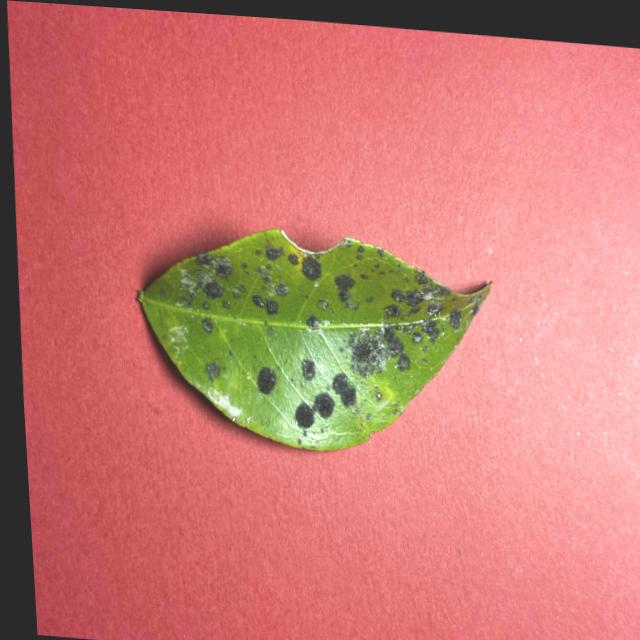sooty_mold: (166, 230, 489, 450)
